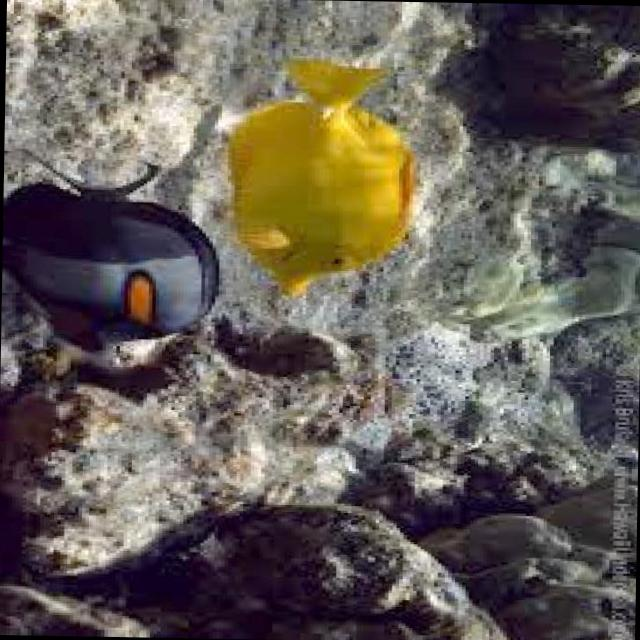YellowTang: (224, 51, 436, 299)
